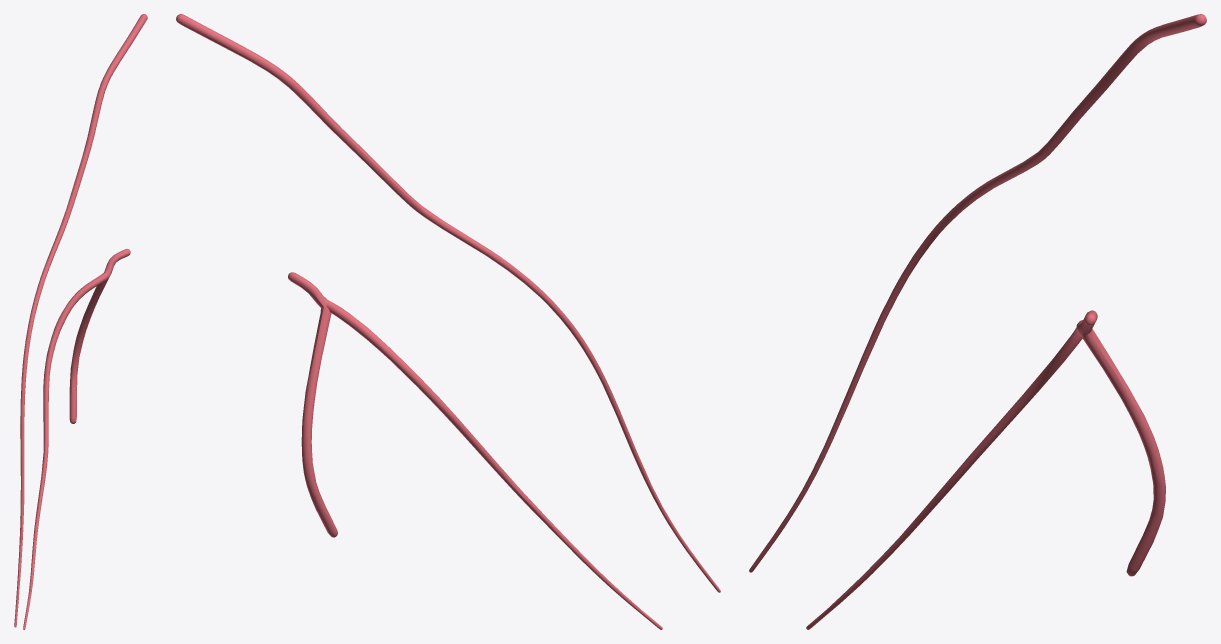
The model's file is fma22920_cx49.glb.
3 renders of one model, left to right at view 1: azimuth 30°, elevation 25°; view 2: azimuth 150°, elevation 25°; view 3: azimuth 270°, elevation 25°, orthographic. The views are drawn at different scales.
Visible parts, largest first — view 1: FMA22920_CX49; view 2: FMA22920_CX49; view 3: FMA22920_CX49.
Part boxes in pixels (x1,y1,x2,y2): FMA22920_CX49: (14,14,147,629); FMA22920_CX49: (176,14,720,629); FMA22920_CX49: (749,14,1206,629).
Size of the model in its own units: 0.0592 by 0.1015 by 0.052.
